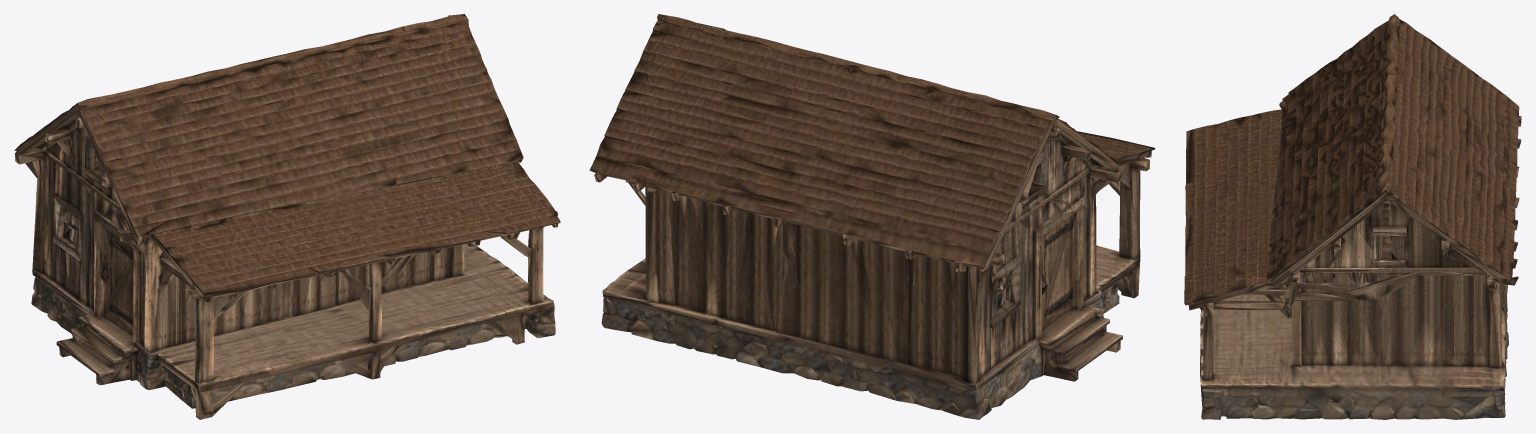
The model's file is mill.glb.
The picture shows the model from 3 angles, left to right: view 1: azimuth 30°, elevation 25°; view 2: azimuth 150°, elevation 25°; view 3: azimuth 270°, elevation 25°; orthographic projection. The views are drawn at different scales.
Parts seen in each view (by area): view 1: Mesh_0; view 2: Mesh_0; view 3: Mesh_0.
Part boxes in pixels (left/top/right/bottom): Mesh_0: left=14, top=14, right=560, bottom=419; Mesh_0: left=589, top=14, right=1155, bottom=419; Mesh_0: left=1184, top=14, right=1521, bottom=419.
Bounding box in the file's own units: 4.88 × 2.88 × 3.75.
Materials: 1 (1 with a texture image).
